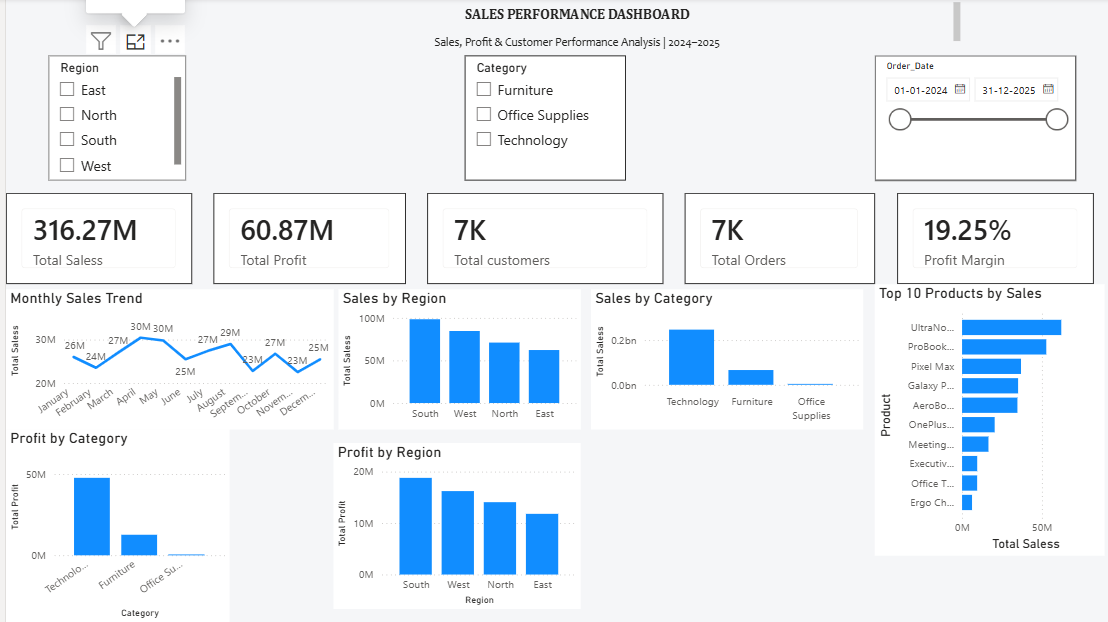

What the dashboard file says about the page in this screenshot:
{"tool":"powerbi","page":{"name":"Page 1","canvas":[1280,720],"ordinal":0},"visuals":[{"type":"cardVisual","title":"Total Sales","fields":{"Data":["Raw_Sales_Data.Total Sales Measure"]},"box":[0,224.7,214.6,105.1],"z":0},{"type":"cardVisual","fields":{"Data":["Raw_Sales_Data.Total Profit"]},"box":[239.1,224.7,221.8,105.1],"z":1000},{"type":"cardVisual","fields":{"Data":["Raw_Sales_Data.Total Order Measure"]},"box":[782,224.7,218.9,105.1],"z":2000},{"type":"cardVisual","fields":{"Data":["Raw_Sales_Data.Total customer Measure"]},"box":[485.3,224.7,272.2,105.1],"z":3000},{"type":"cardVisual","fields":{"Data":["Raw_Sales_Data.Profit Margin"]},"box":[1026.8,224.7,226.1,105.1],"z":4000},{"type":"lineChart","title":"Monthly Sales Trend","fields":{"Category":["Raw_Sales_Data.Order_Date.Variation.Date Hierarchy.Month","Raw_Sales_Data.Order_Date.Variation.Date Hierarchy.Day"],"Y":["Raw_Sales_Data.Total Sales Measure"]},"box":[0,335.6,377.3,161.3],"z":5000},{"type":"clusteredColumnChart","title":"Sales by Region","fields":{"Category":["Raw_Sales_Data.Region"],"Y":["Raw_Sales_Data.Total Sales Measure"]},"box":[383.1,335.6,279.4,161.3],"z":6000},{"type":"clusteredColumnChart","title":"Sales by Category","fields":{"Category":["Raw_Sales_Data.Category"],"Y":["Raw_Sales_Data.Total Sales Measure"]},"box":[674,335.6,314,161.3],"z":7000},{"type":"clusteredBarChart","title":"Top 10 Products by Sales","fields":{"Category":["Raw_Sales_Data.Product"],"Y":["Raw_Sales_Data.Total Sales Measure"]},"box":[1000.9,329.8,265,312.5],"z":8000},{"type":"clusteredColumnChart","title":" Profit by Category","fields":{"Category":["Raw_Sales_Data.Category"],"Y":["Raw_Sales_Data.Total Profit Measure"]},"box":[0,496.9,257.8,223.2],"z":9000},{"type":"clusteredColumnChart","title":"Profit by Region","fields":{"Category":["Raw_Sales_Data.Region"],"Y":["Raw_Sales_Data.Total Profit Measure"]},"box":[377.3,512.7,285.1,191.5],"z":10000},{"type":"slicer","fields":{"Values":["Raw_Sales_Data.Region"]},"box":[49,66.2,158.4,144],"z":11000},{"type":"slicer","fields":{"Values":["Raw_Sales_Data.Category"]},"box":[528.5,66.2,185.8,144],"z":12000},{"type":"slicer","fields":{"Values":["Raw_Sales_Data.Order_Date"]},"box":[1000.9,66.2,231.9,144],"z":13000},{"type":"textbox","box":[220.3,0,884.3,66.2],"z":14000}]}

Visuals, with their boxes in screenshot pixels (x1, y1, x2, y2), scaled from the page's 1280x720 canvas onto the 1108x622 screenshot:
"Total Sales" cardVisual: region(0, 194, 186, 285)
cardVisual - Raw_Sales_Data.Total Profit: region(207, 194, 399, 285)
cardVisual - Raw_Sales_Data.Total Order Measure: region(677, 194, 866, 285)
cardVisual - Raw_Sales_Data.Total customer Measure: region(420, 194, 656, 285)
cardVisual - Raw_Sales_Data.Profit Margin: region(889, 194, 1085, 285)
"Monthly Sales Trend" lineChart: region(0, 290, 327, 429)
"Sales by Region" clusteredColumnChart: region(332, 290, 573, 429)
"Sales by Category" clusteredColumnChart: region(583, 290, 855, 429)
"Top 10 Products by Sales" clusteredBarChart: region(866, 285, 1096, 555)
" Profit by Category" clusteredColumnChart: region(0, 429, 223, 621)
"Profit by Region" clusteredColumnChart: region(327, 443, 573, 608)
slicer - Raw_Sales_Data.Region: region(42, 57, 180, 182)
slicer - Raw_Sales_Data.Category: region(457, 57, 618, 182)
slicer - Raw_Sales_Data.Order_Date: region(866, 57, 1067, 182)
textbox: region(191, 0, 956, 57)
